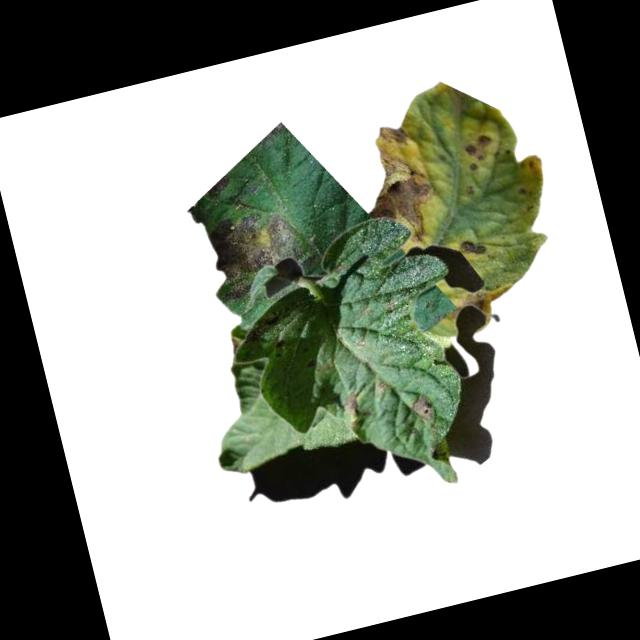Early_blight: (349, 118, 446, 252), (200, 203, 315, 301), (439, 285, 514, 327), (459, 131, 500, 174), (409, 390, 438, 426), (339, 392, 365, 425), (457, 234, 489, 260), (227, 337, 241, 358)
